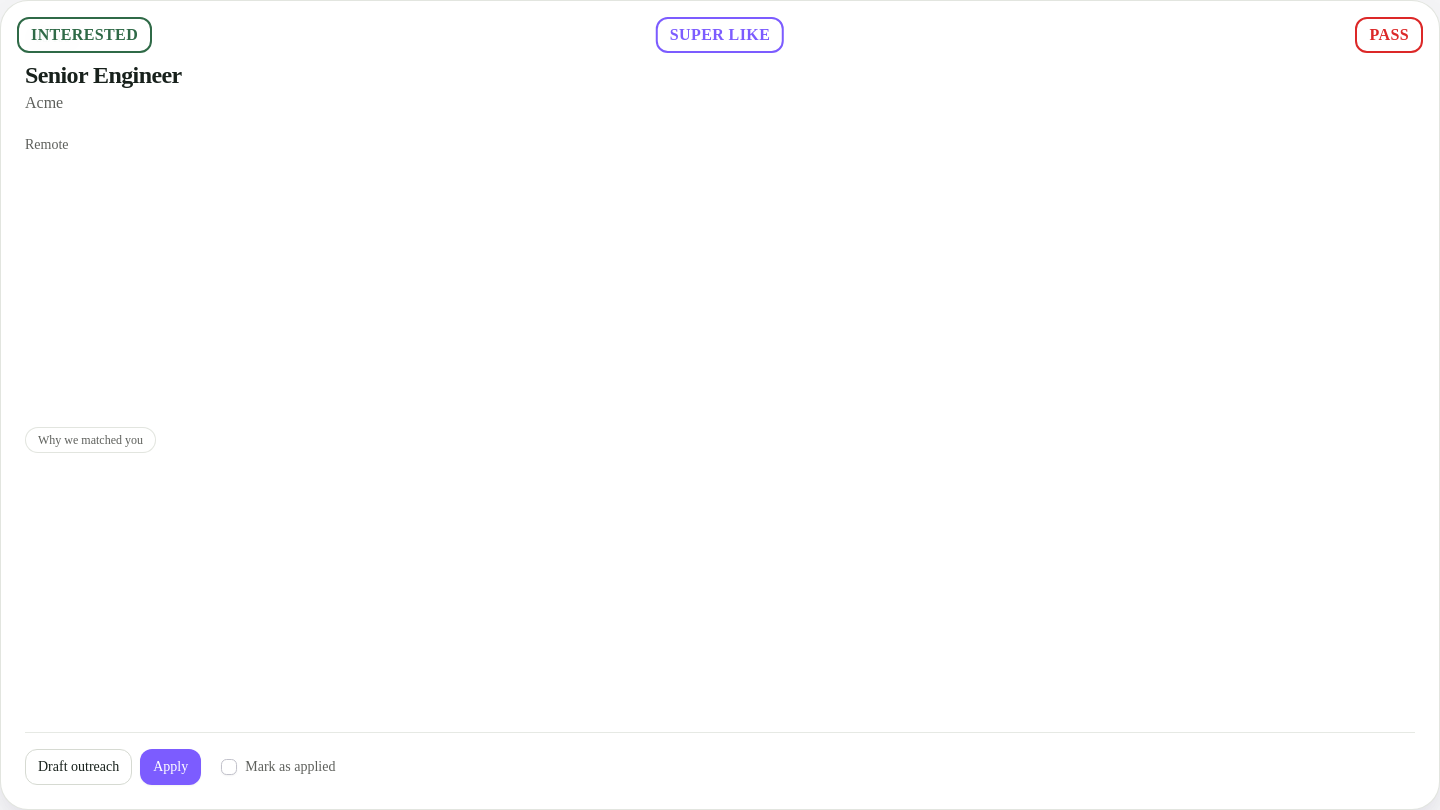
Scenario: SwipeCard › hides the "why we matched you" explanation until the toggle is clicked, then shows it
Expected: the text "Great fit for your skills." is not shown
Step 1. Click the button "Why we matched you" → {"x": 90, "y": 440}, box left=25, top=426, right=156, bottom=452
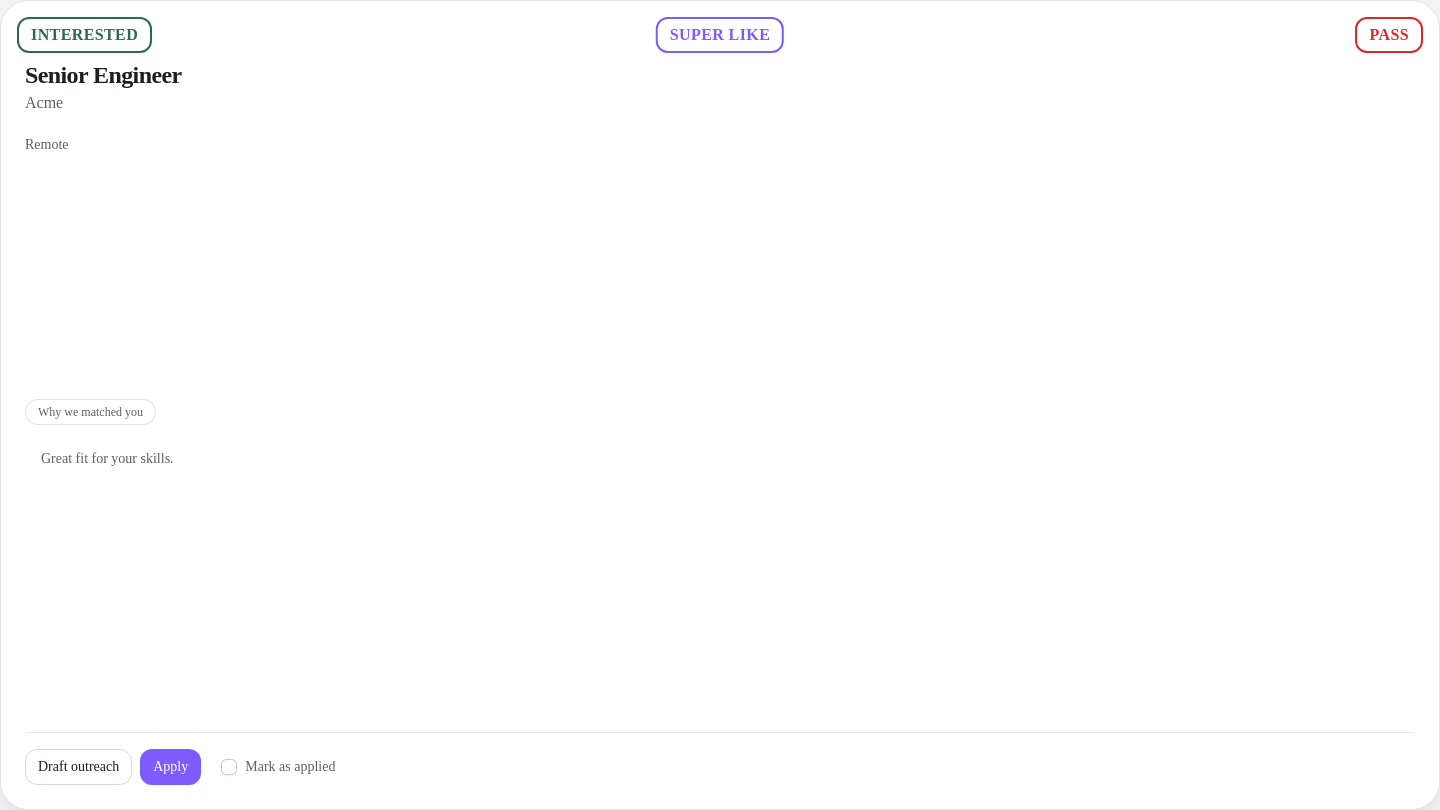
Now the text "Great fit for your skills." is shown, box left=25, top=436, right=1415, bottom=480
